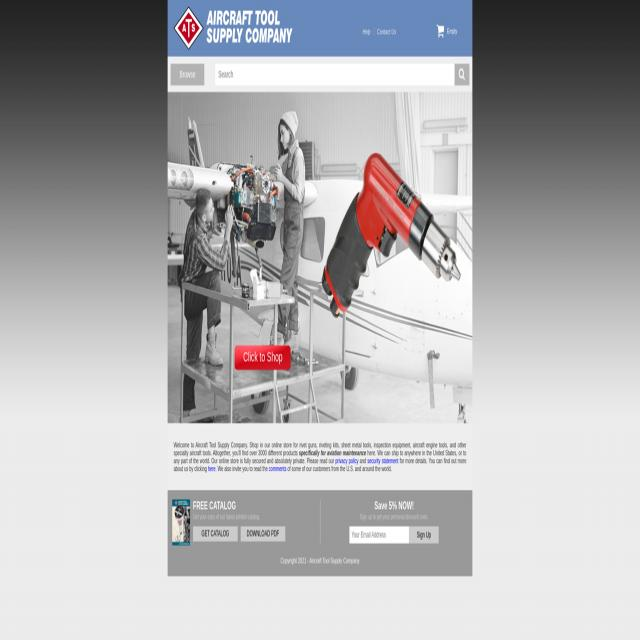button: (174, 7, 292, 50), (235, 345, 291, 371), (172, 499, 190, 545), (193, 526, 237, 542), (241, 526, 285, 542), (171, 64, 204, 85), (434, 21, 461, 44), (409, 526, 439, 544), (456, 64, 470, 85)
field: (215, 64, 469, 85), (349, 526, 409, 544)
